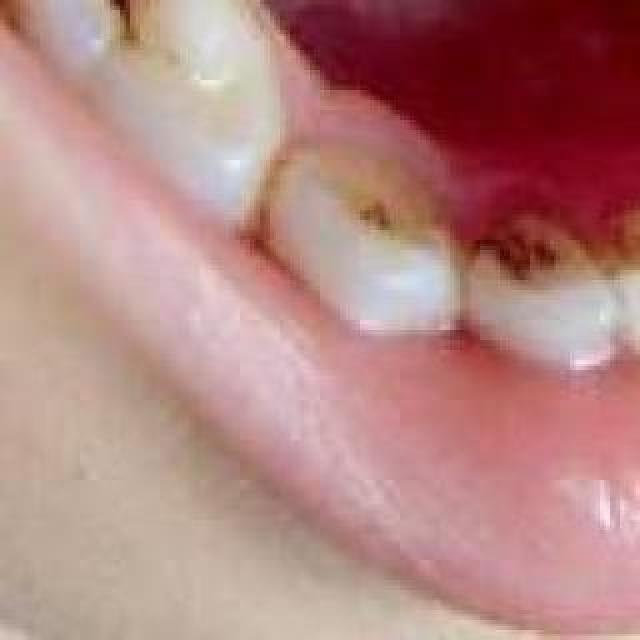stains: (26, 0, 232, 134), (305, 124, 477, 282), (459, 192, 591, 312), (590, 184, 640, 306)
